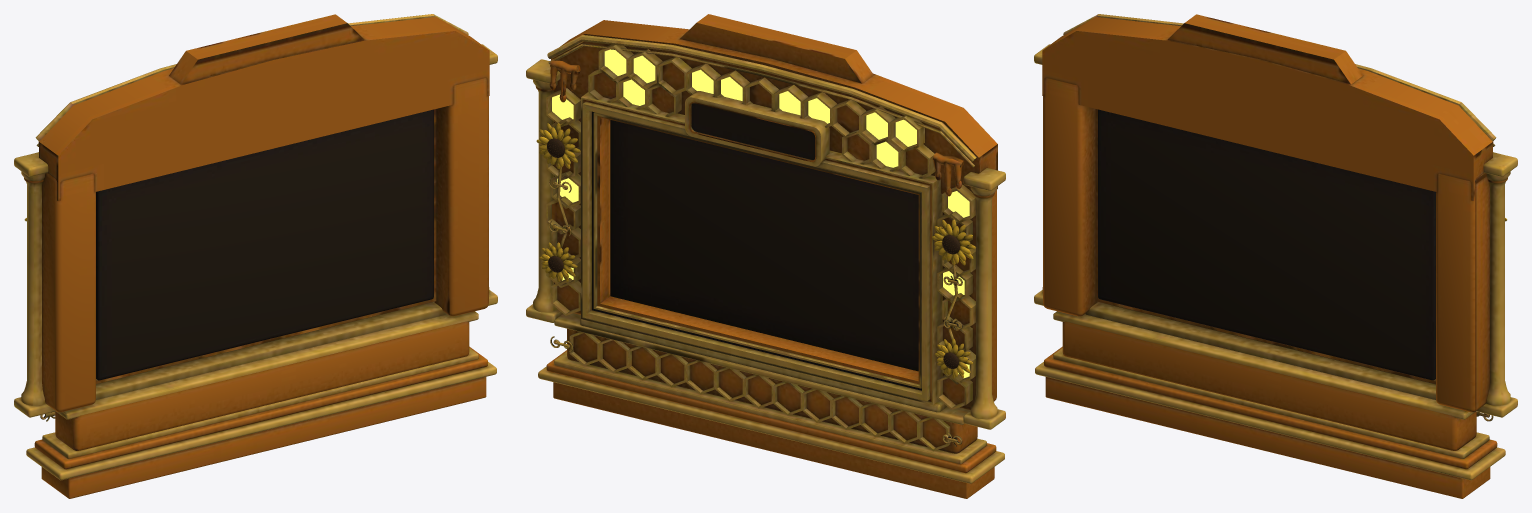
3 views of the same model, side by side, from view 1: azimuth 30°, elevation 25°; view 2: azimuth 150°, elevation 25°; view 3: azimuth 330°, elevation 25° (orthographic).
Visible parts, largest first — view 1: Amber_honey_enamel, Uniform_warm_shadow, Brushed_palace_gold; view 2: Brushed_palace_gold, Uniform_warm_shadow, Amber_honey_enamel, Warm_honey_glow, Sunflower_petals, Sunflower_seed_heart; view 3: Amber_honey_enamel, Uniform_warm_shadow, Brushed_palace_gold.
Part boxes in pixels (bbox=[...]): Amber_honey_enamel: bbox=[24, 14, 489, 498]; Uniform_warm_shadow: bbox=[96, 109, 433, 380]; Brushed_palace_gold: bbox=[14, 14, 497, 480]; Brushed_palace_gold: bbox=[526, 35, 1005, 483]; Uniform_warm_shadow: bbox=[592, 103, 921, 390]; Amber_honey_enamel: bbox=[535, 14, 997, 498]; Warm_honey_glow: bbox=[552, 49, 969, 378]; Sunflower_petals: bbox=[536, 123, 975, 378]; Sunflower_seed_heart: bbox=[547, 138, 960, 368]; Amber_honey_enamel: bbox=[1042, 14, 1507, 498]; Uniform_warm_shadow: bbox=[1098, 109, 1435, 380]; Brushed_palace_gold: bbox=[1034, 14, 1517, 480].
Bounding box in the file's own units: 11.93 × 9.8 × 1.65.
6 materials, 5 textured.
